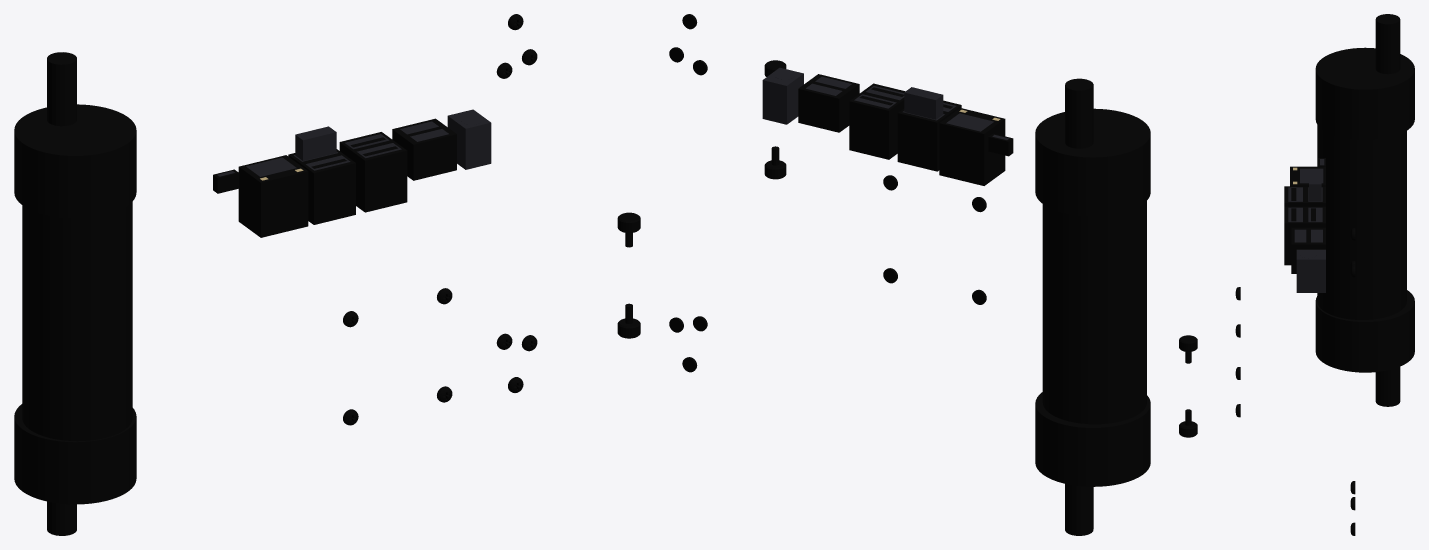
The model's file is chassis_silver_vis.obj.
3 renders of one model, left to right at view 1: azimuth 30°, elevation 25°; view 2: azimuth 150°, elevation 25°; view 3: azimuth 270°, elevation 25°, orthographic. The views are drawn at different scales.
Size of the model in its own units: 0.1784 by 0.1582 by 0.0884.
1 material, 1 textured.
